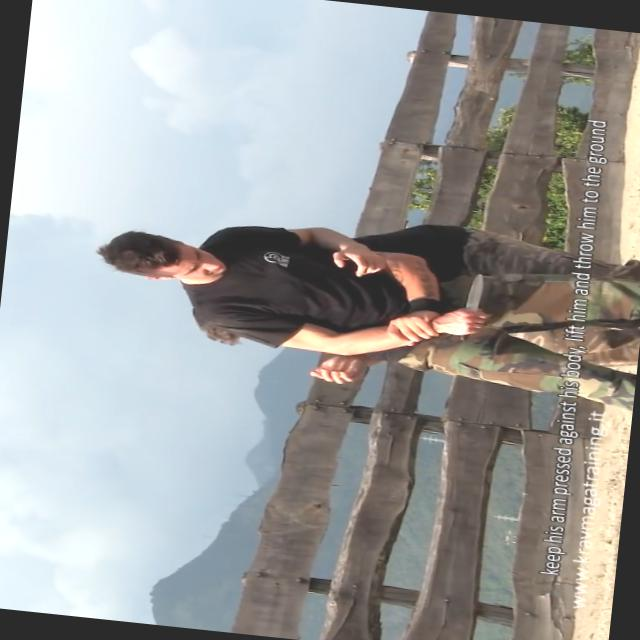knife: (445, 266, 491, 346)
